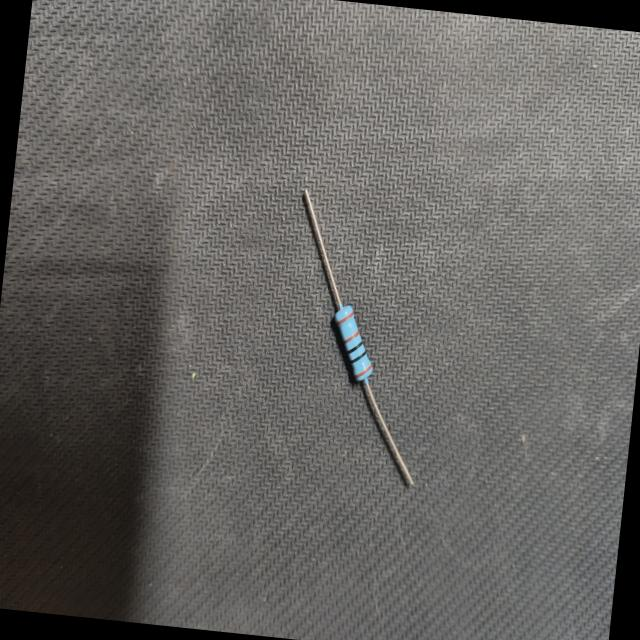resistor: (268, 178, 450, 494)
